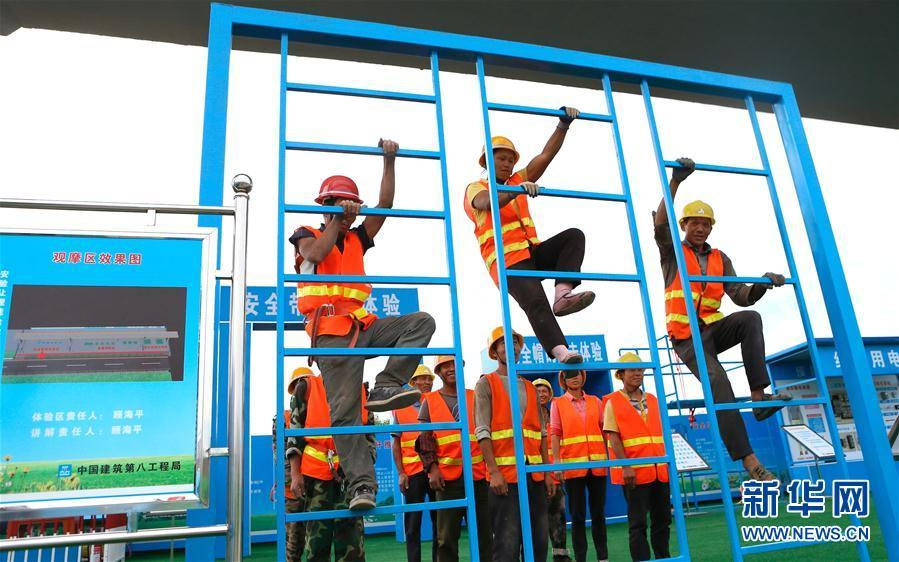helmet: (473, 134, 525, 175), (277, 361, 325, 395), (317, 175, 366, 205), (559, 356, 593, 394), (611, 351, 650, 378), (433, 351, 467, 378), (680, 200, 716, 224), (529, 375, 557, 399), (411, 363, 437, 381)
